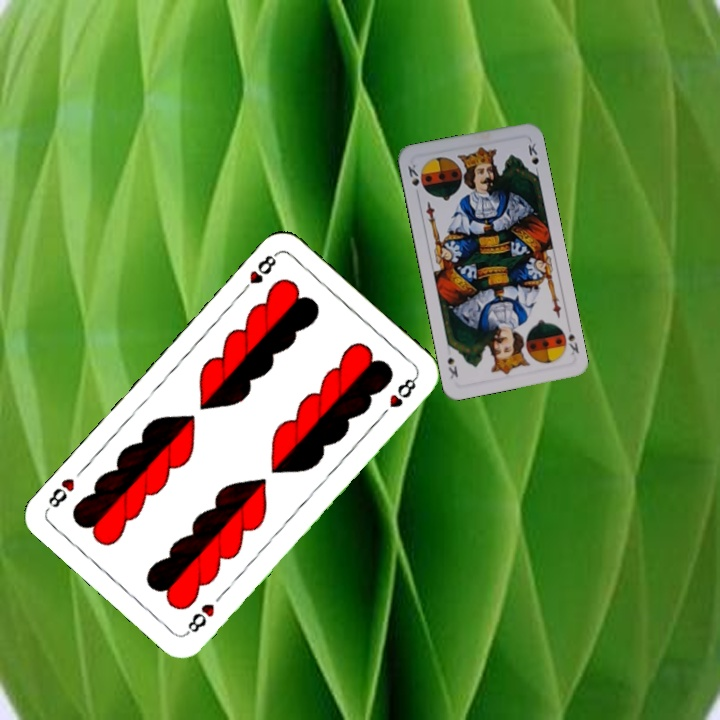H8: (236, 248, 281, 297), (182, 599, 218, 638)
SK: (404, 160, 422, 199), (564, 329, 582, 357)
